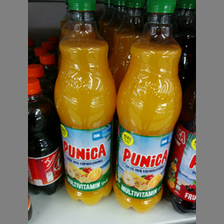juice: (116, 1, 185, 212), (54, 1, 117, 205)
